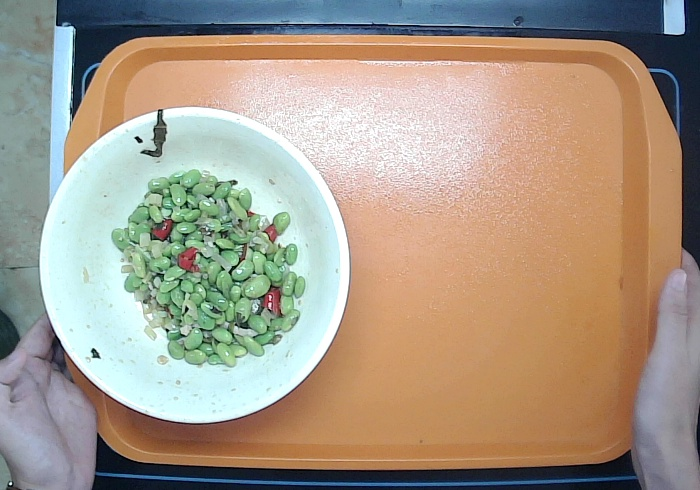ZNLD-Da_Tang_Wan: (37, 103, 352, 428)
